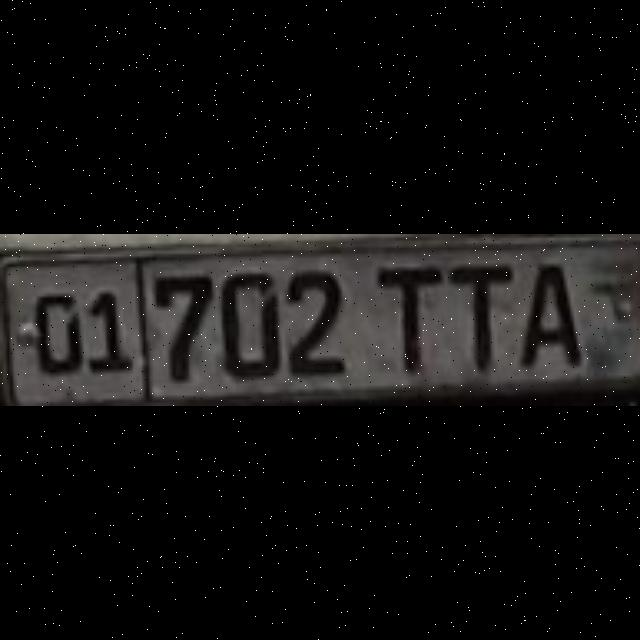0: (215, 271, 275, 377), (30, 290, 76, 370)
1: (82, 288, 126, 370)
2: (282, 267, 338, 373)
7: (149, 270, 209, 380)
A: (517, 261, 577, 367)
T: (371, 264, 441, 374), (445, 260, 511, 370)
